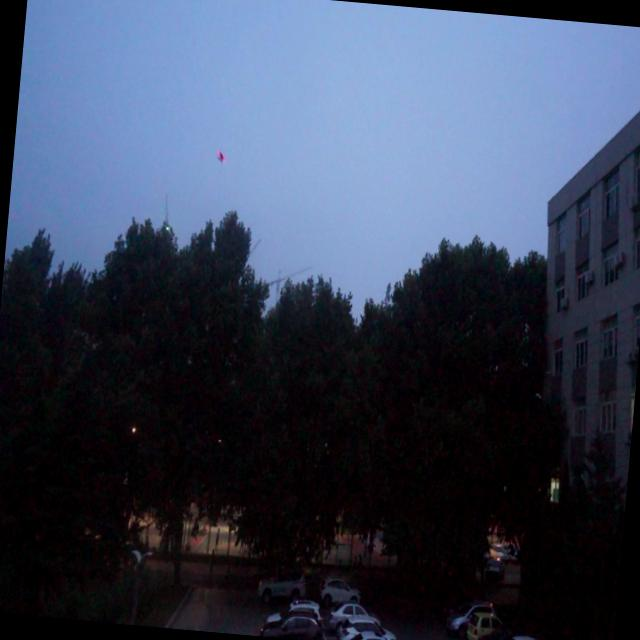drone: (214, 146, 228, 164)
